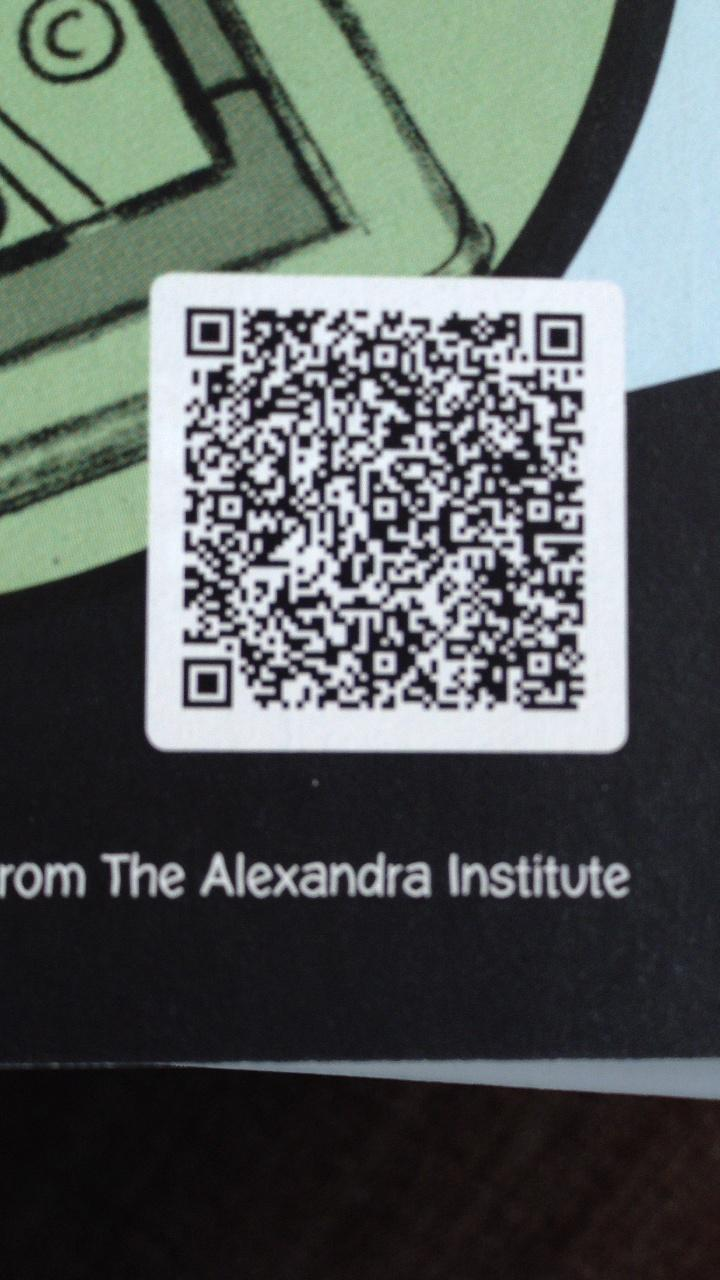Finder pattern: (172, 648, 242, 719), (525, 305, 592, 372), (175, 296, 240, 362)
